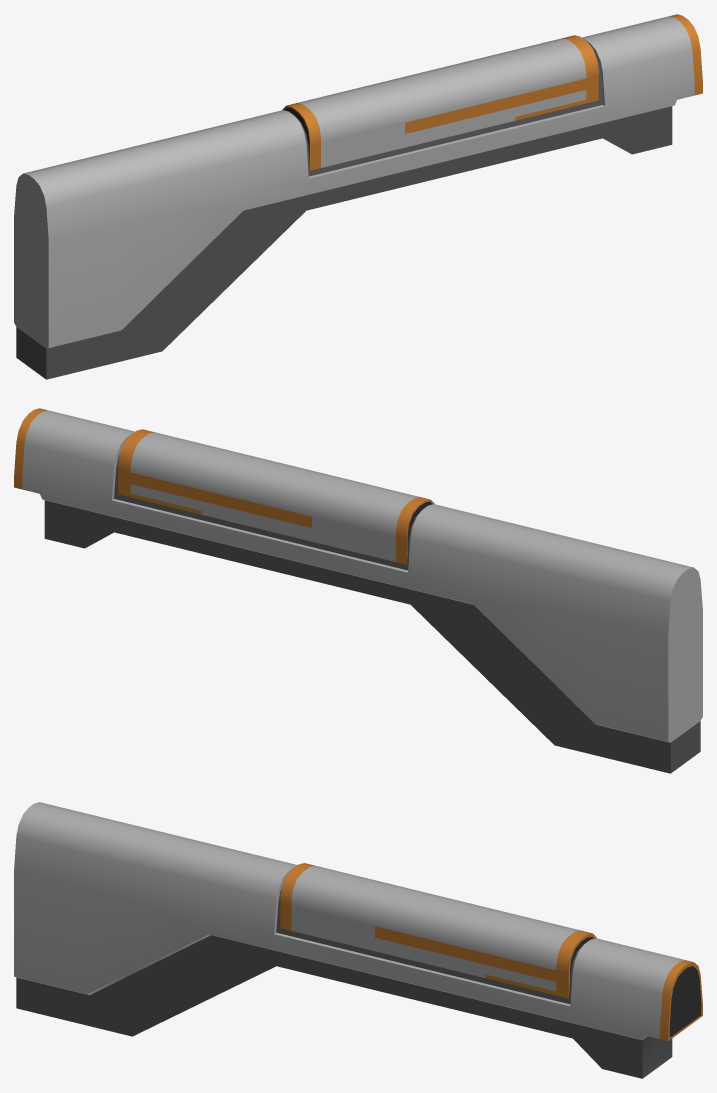
Rendered from Body_AR_6.gltf.
The picture shows the model from 3 angles, top to bottom: view 1: azimuth 30°, elevation 25°; view 2: azimuth 150°, elevation 25°; view 3: azimuth 330°, elevation 25°; orthographic projection.
Visible parts, largest first — view 1: Body_AR_6; view 2: Body_AR_6; view 3: Body_AR_6.
Boxes of the visible parts, x1=… form: Body_AR_6: x1=14, y1=14, x2=702, y2=379; Body_AR_6: x1=14, y1=408, x2=702, y2=773; Body_AR_6: x1=14, y1=802, x2=702, y2=1078.
Size of the model in its own units: 1.49 by 0.4229 by 0.137.
